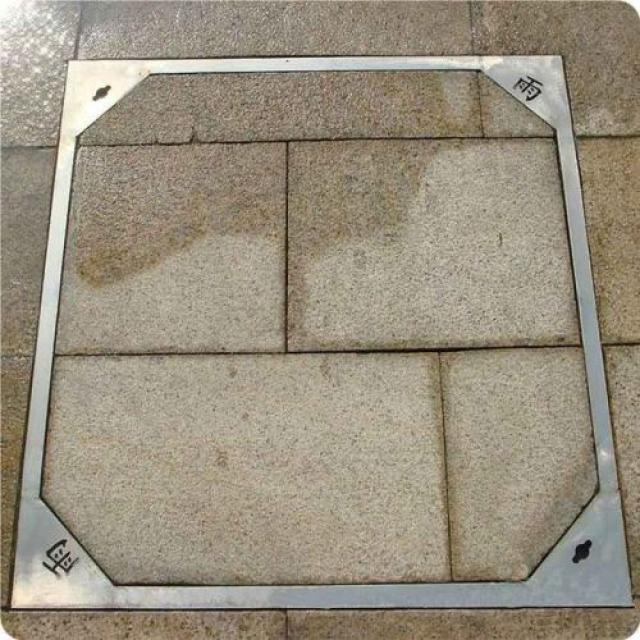manhole: (11, 56, 631, 609)
